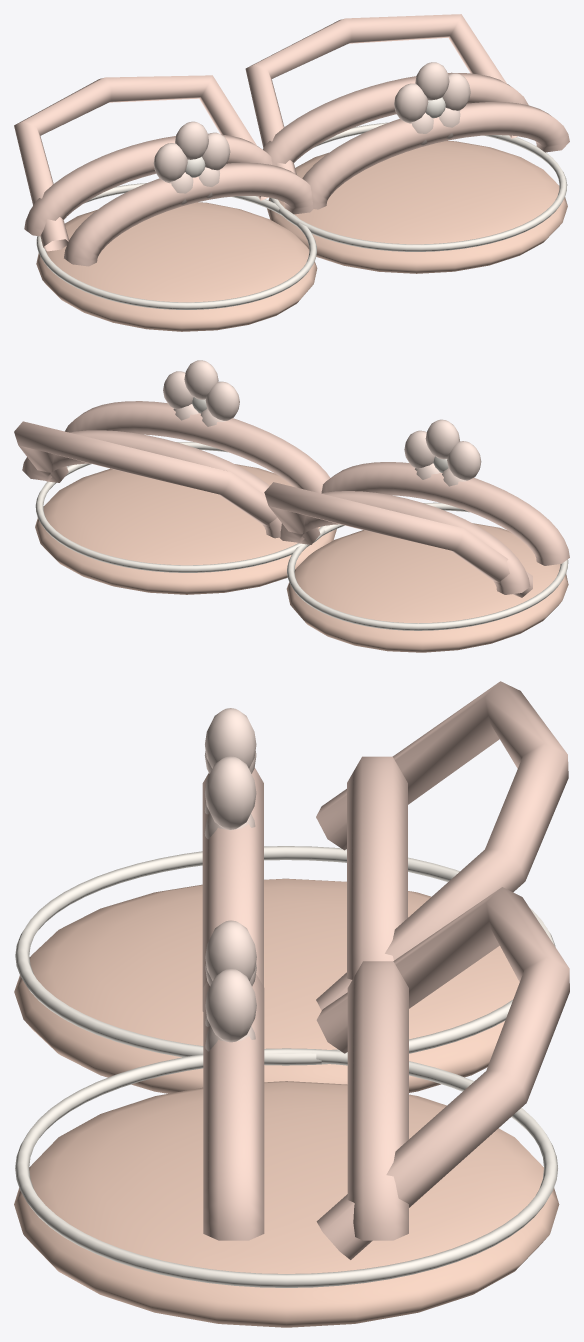
The model's file is sandals_summer_pig_tailored.glb.
3 views of the same model, one above another, from view 1: azimuth 30°, elevation 25°; view 2: azimuth 150°, elevation 25°; view 3: azimuth 270°, elevation 25° (orthographic). The views are drawn at different scales.
Visible parts, largest first — view 1: Calzado · Left · Suela.014, Calzado · Right · Suela.014, Calzado · Right · Talón.002, Calzado · Left · Correa redondeada.005, Calzado · Left · Talón.002, Calzado · Right · Correa redondeada.004, Calzado · Left · Correa redondeada.004, Calzado · Right · Correa redondeada.005, Calzado · Left · Ribete de suela.014, Calzado · Right · Ribete de suela.014, Calzado · Right · Pétalo.014, Calzado · Left · Pétalo.014 (+4 smaller); view 2: Calzado · Left · Suela.014, Calzado · Right · Suela.014, Calzado · Left · Correa redondeada.005, Calzado · Right · Correa redondeada.004, Calzado · Left · Talón.002, Calzado · Right · Talón.002, Calzado · Right · Correa redondeada.005, Calzado · Left · Correa redondeada.004, Calzado · Right · Ribete de suela.014, Calzado · Left · Ribete de suela.014, Calzado · Right · Pétalo.014, Calzado · Left · Pétalo.014 (+4 smaller); view 3: Calzado · Left · Suela.014, Calzado · Right · Suela.014, Calzado · Left · Talón.002, Calzado · Right · Talón.002, Calzado · Left · Correa redondeada.004, Calzado · Left · Ribete de suela.014, Calzado · Left · Correa redondeada.005, Calzado · Right · Correa redondeada.005, Calzado · Right · Ribete de suela.014, Calzado · Right · Correa redondeada.004, Calzado · Right · Pétalo.013, Calzado · Left · Pétalo.010 (+2 smaller).
Boxes of the visible parts, x1,y1,x2,y2 form: Calzado · Left · Suela.014: (267,140,567,273); Calzado · Right · Suela.014: (36,202,317,331); Calzado · Right · Talón.002: (14,75,268,251); Calzado · Left · Correa redondeada.005: (302,102,569,209); Calzado · Left · Talón.002: (245,14,517,174); Calzado · Right · Correa redondeada.004: (64,162,313,266); Calzado · Left · Correa redondeada.004: (263,72,528,165); Calzado · Right · Correa redondeada.005: (24,133,272,236); Calzado · Left · Ribete de suela.014: (269,122,567,251); Calzado · Right · Ribete de suela.014: (36,183,316,309); Calzado · Right · Pétalo.014: (153,143,187,182); Calzado · Left · Pétalo.014: (394,83,428,122); Calzado · Left · Suela.014: (35,464,336,594); Calzado · Right · Suela.014: (286,523,568,652); Calzado · Left · Correa redondeada.005: (65,401,330,493); Calzado · Right · Correa redondeada.004: (321,462,569,565); Calzado · Left · Talón.002: (14,421,277,526); Calzado · Right · Talón.002: (264,482,532,597); Calzado · Right · Correa redondeada.005: (280,491,530,594); Calzado · Left · Correa redondeada.004: (22,430,281,538); Calzado · Right · Ribete de suela.014: (287,502,568,630); Calzado · Left · Ribete de suela.014: (35,442,327,572); Calzado · Right · Pétalo.014: (447,441,481,480); Calzado · Left · Pétalo.014: (205,381,239,420); Calzado · Left · Suela.014: (14,1081,559,1327); Calzado · Right · Suela.014: (14,878,519,1093); Calzado · Left · Talón.002: (316,887,569,1259); Calzado · Right · Talón.002: (316,681,568,1010); Calzado · Left · Correa redondeada.004: (347,961,408,1240); Calzado · Left · Ribete de suela.014: (15,1048,557,1287); Calzado · Left · Correa redondeada.005: (203,974,264,1240); Calzado · Right · Correa redondeada.005: (347,756,407,979); Calzado · Right · Ribete de suela.014: (15,846,555,1065); Calzado · Right · Correa redondeada.004: (202,767,263,1011); Calzado · Right · Pétalo.013: (205,756,256,829); Calzado · Left · Pétalo.010: (205,969,256,1042).
Bounding box in the file's own units: 0.4453 × 0.1526 × 0.2365.
